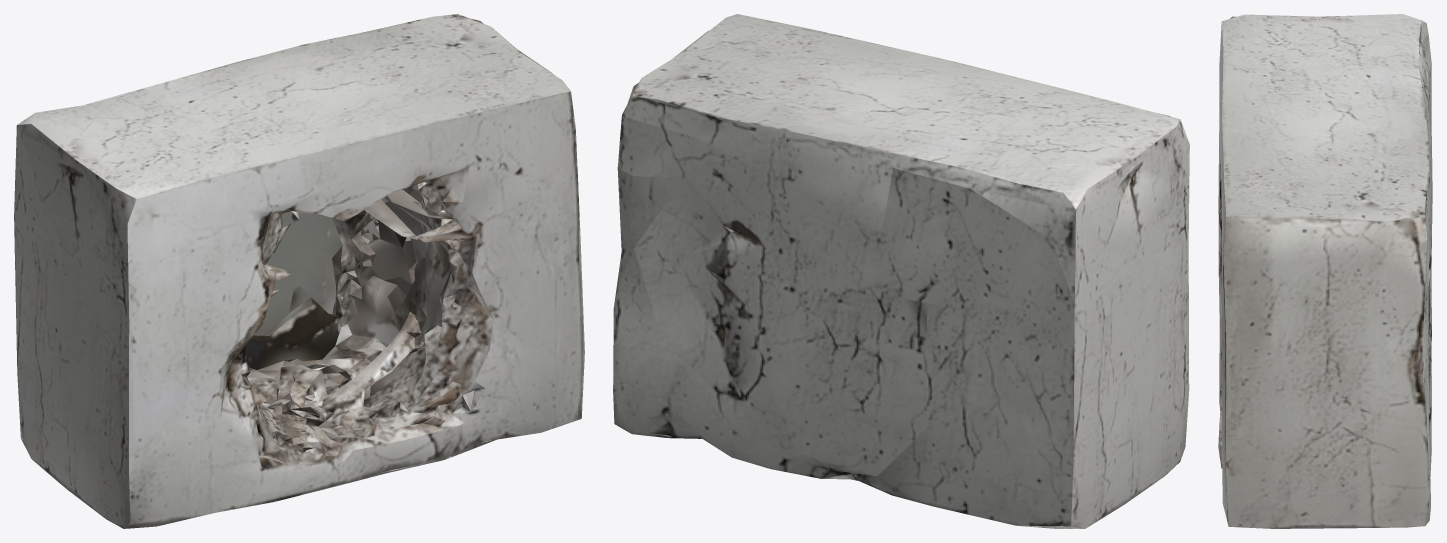
Rendered from anomaly_hole.glb.
3 renders of one model, left to right at view 1: azimuth 30°, elevation 25°; view 2: azimuth 150°, elevation 25°; view 3: azimuth 270°, elevation 25°, orthographic. The views are drawn at different scales.
Visible parts, largest first — view 1: geometry_0; view 2: geometry_0; view 3: geometry_0.
Boxes of the visible parts, x1,y1,x2,y2 form: geometry_0: [14, 14, 584, 528]; geometry_0: [613, 14, 1189, 528]; geometry_0: [1218, 14, 1432, 528].
Size of the model in its own units: 0.8 by 0.5673 by 0.3496.
Materials: 1 (1 with a texture image).
